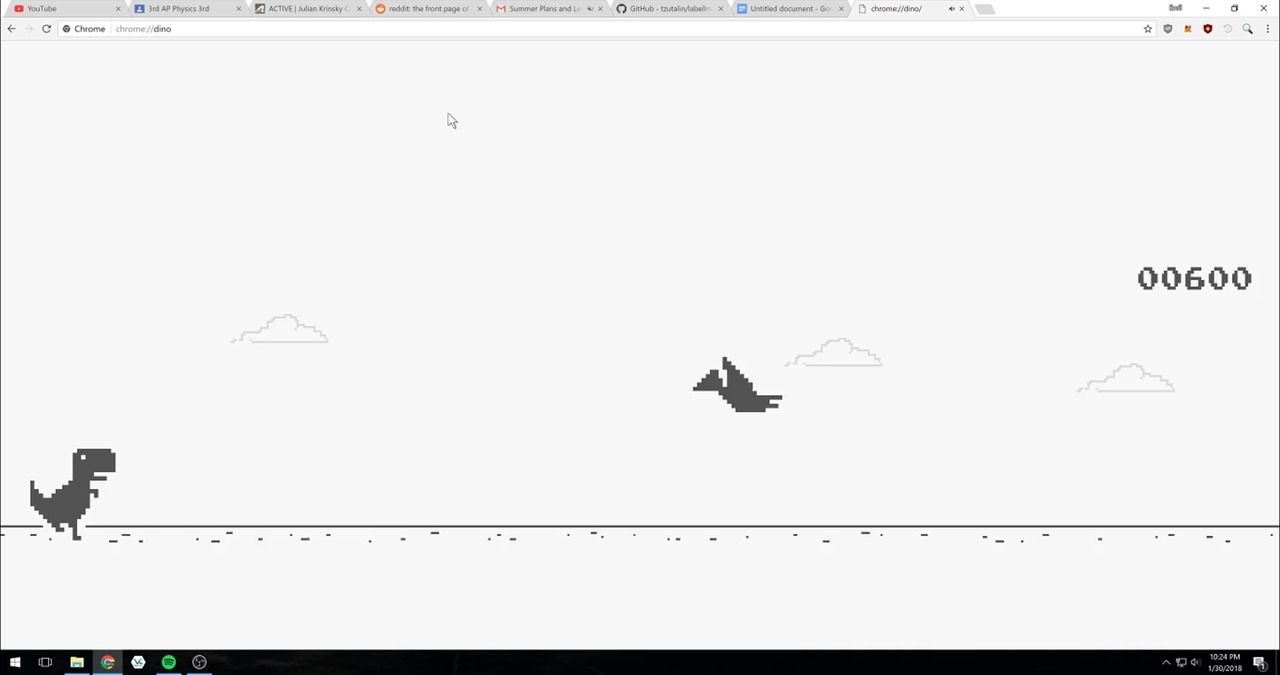bird: (690, 355, 785, 416)
dinosaur: (29, 448, 118, 543)
